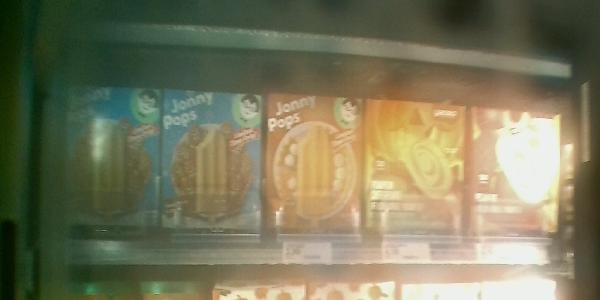icecream: (61, 78, 162, 262), (160, 81, 264, 255), (362, 97, 472, 249), (267, 91, 367, 257), (471, 105, 563, 245)
